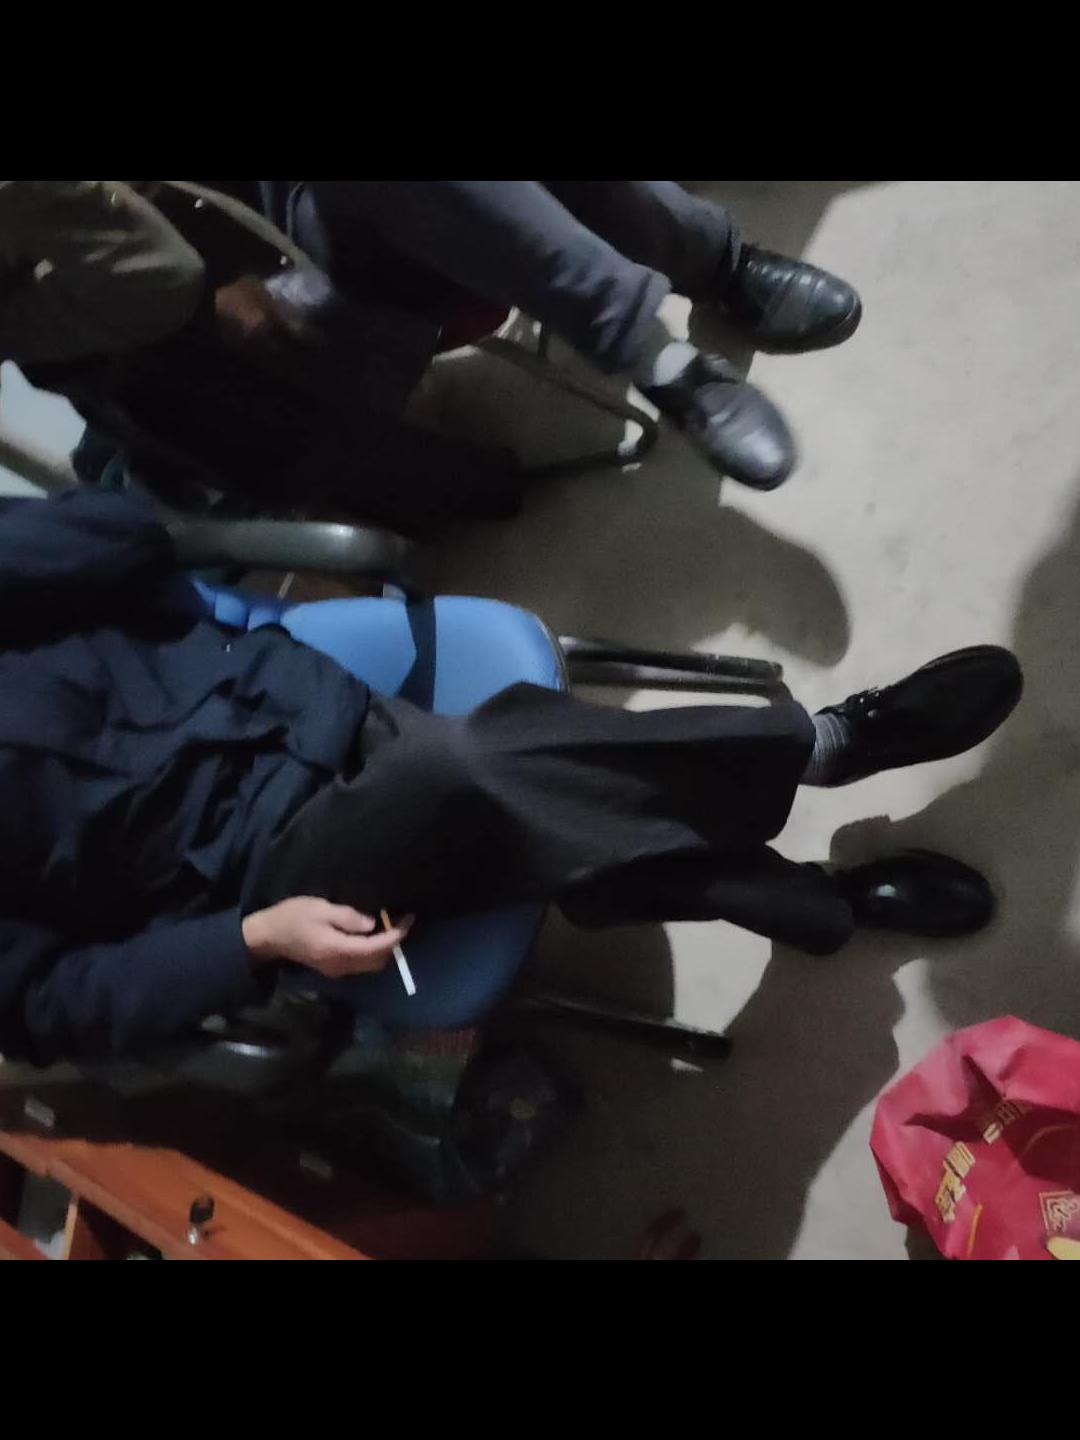Cigarette: (380, 914, 415, 991)
